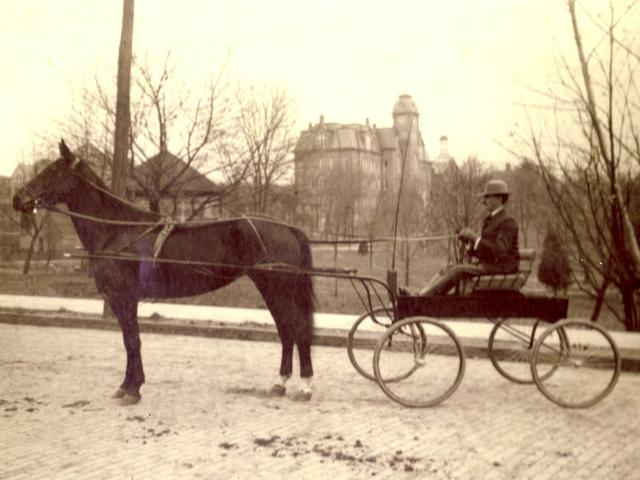horse: (4, 127, 351, 426)
